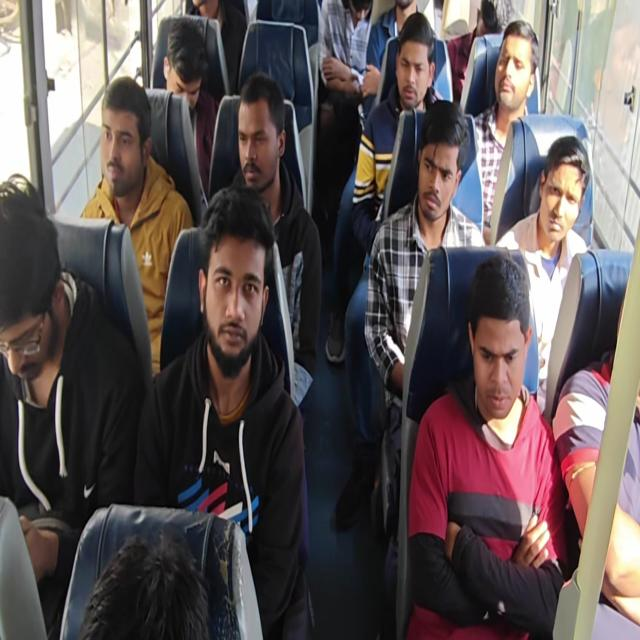person: (82, 565, 242, 640), (1, 220, 57, 372), (468, 279, 526, 422), (206, 225, 266, 362), (227, 90, 280, 200), (491, 30, 541, 126), (97, 92, 139, 206), (539, 146, 585, 249), (415, 121, 458, 219), (161, 36, 203, 116), (395, 30, 433, 100), (333, 0, 375, 31), (385, 0, 418, 22)
